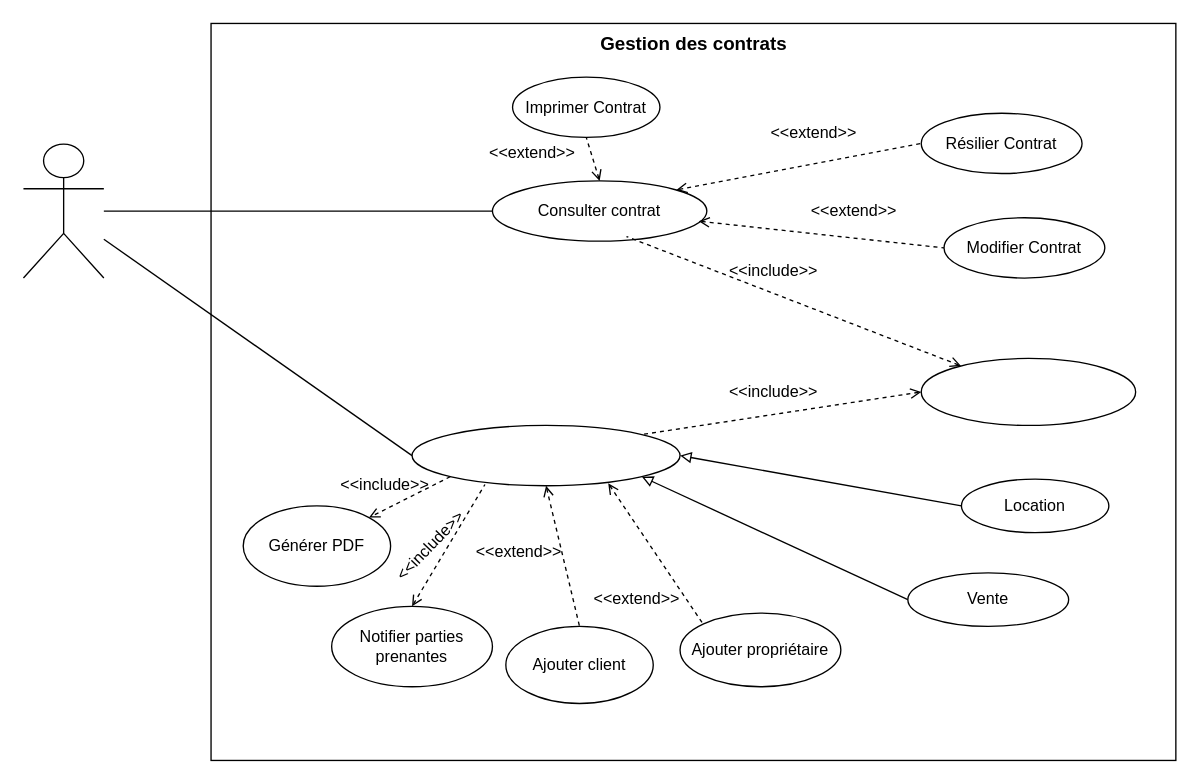
This 1199x784 diagram has some shape labels left out. Here are the shapes that lost their labels. From the top down, the centre of each, then its label:
At point (63, 210): "Admin".
At point (1028, 391): "S'authentifier".
At point (545, 455): "Etablir Contrat".
